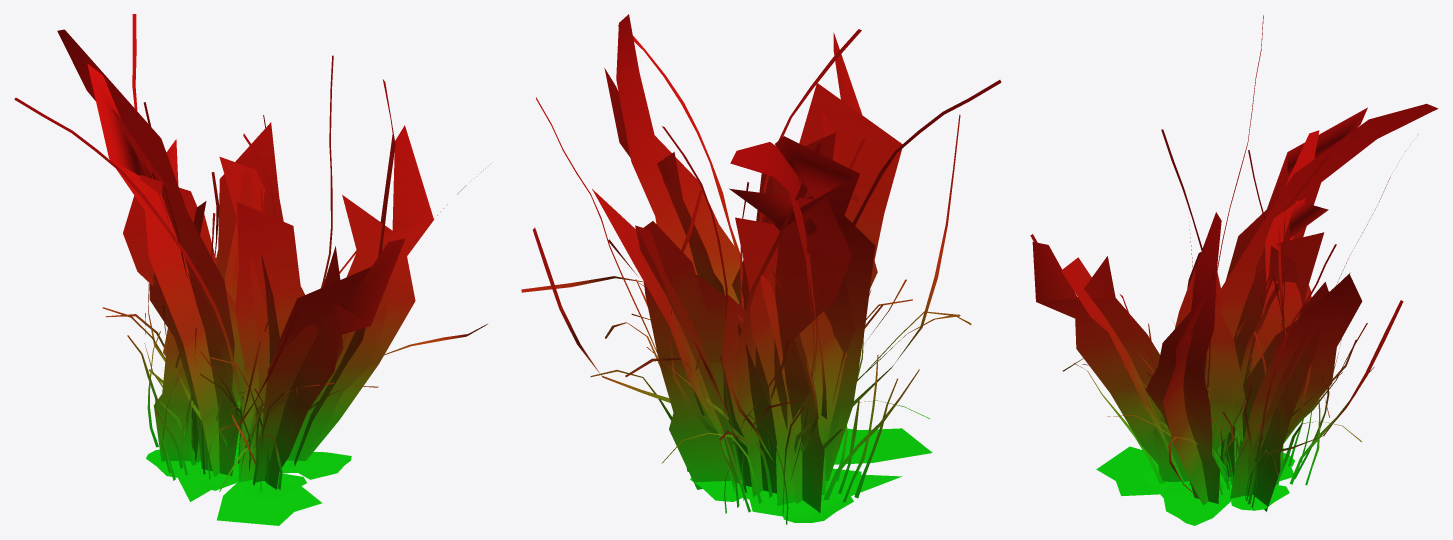
Rendered from uddmcgbia_Var2_LOD0.fbx.
3 views of the same model, side by side, from view 1: azimuth 30°, elevation 25°; view 2: azimuth 150°, elevation 25°; view 3: azimuth 270°, elevation 25° (orthographic). The views are drawn at different scales.
Visible parts, largest first — view 1: _84fe_Var2_LOD0; view 2: _84fe_Var2_LOD0; view 3: _84fe_Var2_LOD0.
Boxes of the visible parts, x1,y1,x2,y2 form: _84fe_Var2_LOD0: [14, 14, 490, 525]; _84fe_Var2_LOD0: [521, 14, 1001, 524]; _84fe_Var2_LOD0: [1030, 15, 1438, 525].
Size of the model in its own units: 47.36 by 42.11 by 40.79.
